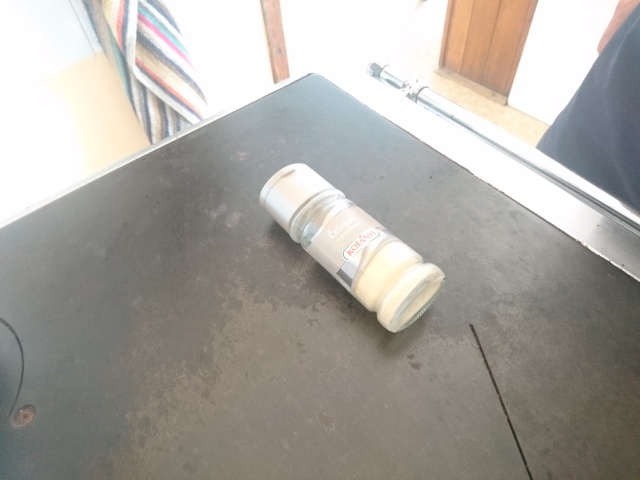Kotanyi Garlic Granules 70g: (255, 160, 449, 337)
